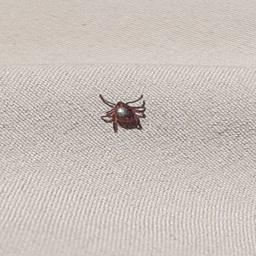Rhipicephalus sanguineus: (99, 93, 147, 133)
